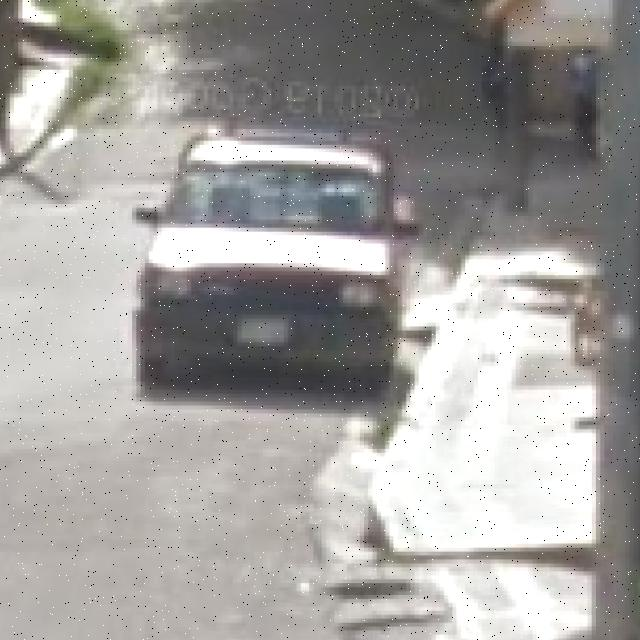car: (120, 144, 412, 396)
